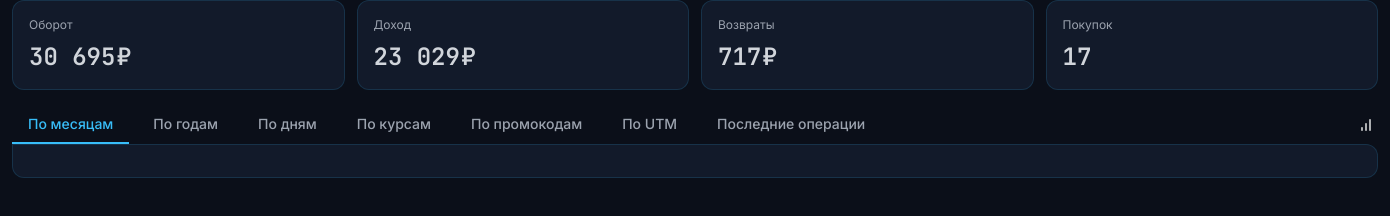
Scenario: Financials › shows the chart toggle only on months/days tabs
Expected: the button named "Показать график" is shown, x1=1354 y1=113 x2=1378 y2=137
Click the button "По годам" at (186, 125), box x1=137 y1=106 x2=234 y2=144
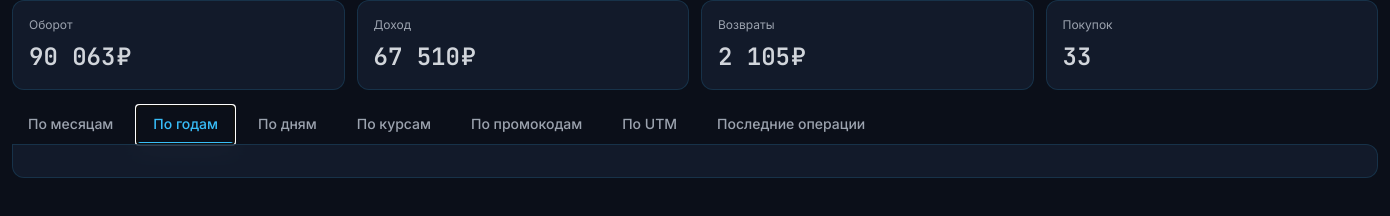
Click the button "По курсам" at (394, 125), box x1=341 y1=106 x2=447 y2=144
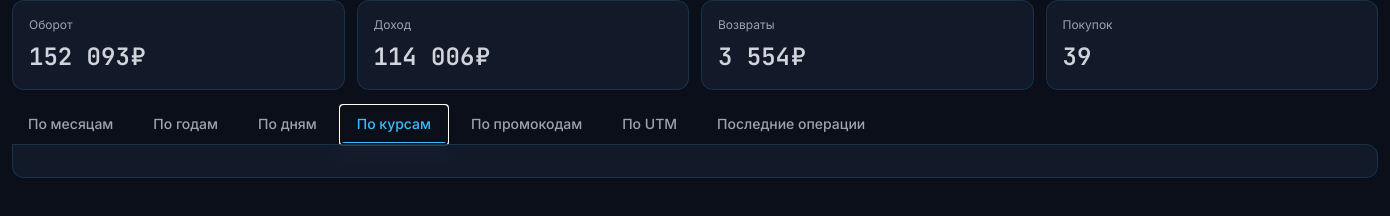
Click the button "По промокодам" at (527, 125), box x1=455 y1=106 x2=598 y2=144
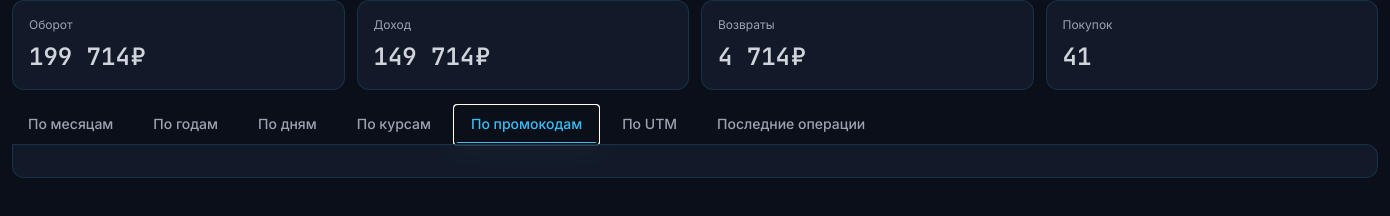
Click the button "По дням" at (287, 125), box x1=242 y1=106 x2=333 y2=144
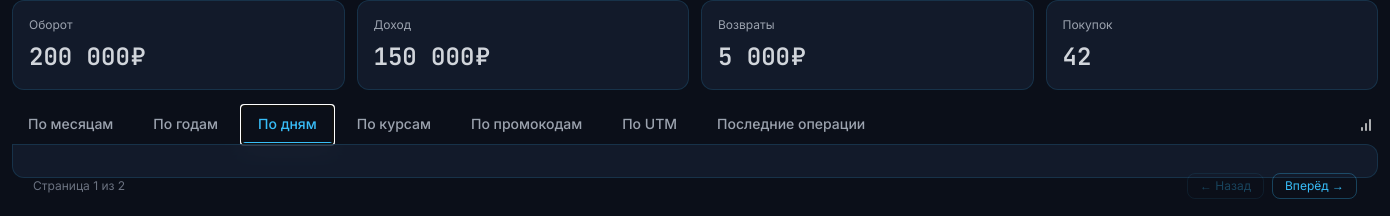
Expected: the button named "Показать график" is shown, x1=1354 y1=113 x2=1378 y2=137
